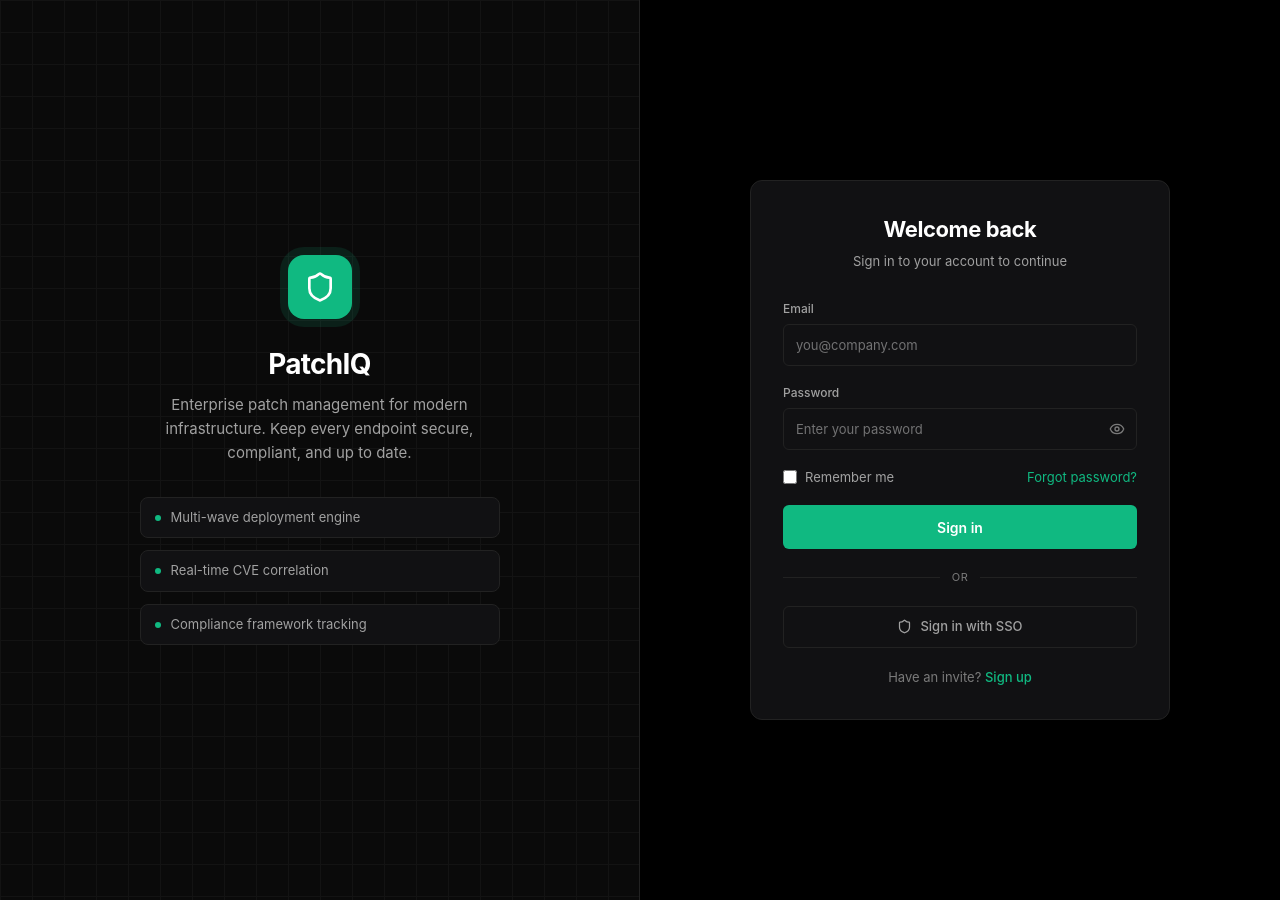
LoginPage › shows validation error for empty password
Type "user@example.com" into the field labelled "Email". click: (960, 344)
box: left=783, top=324, right=1137, bottom=366
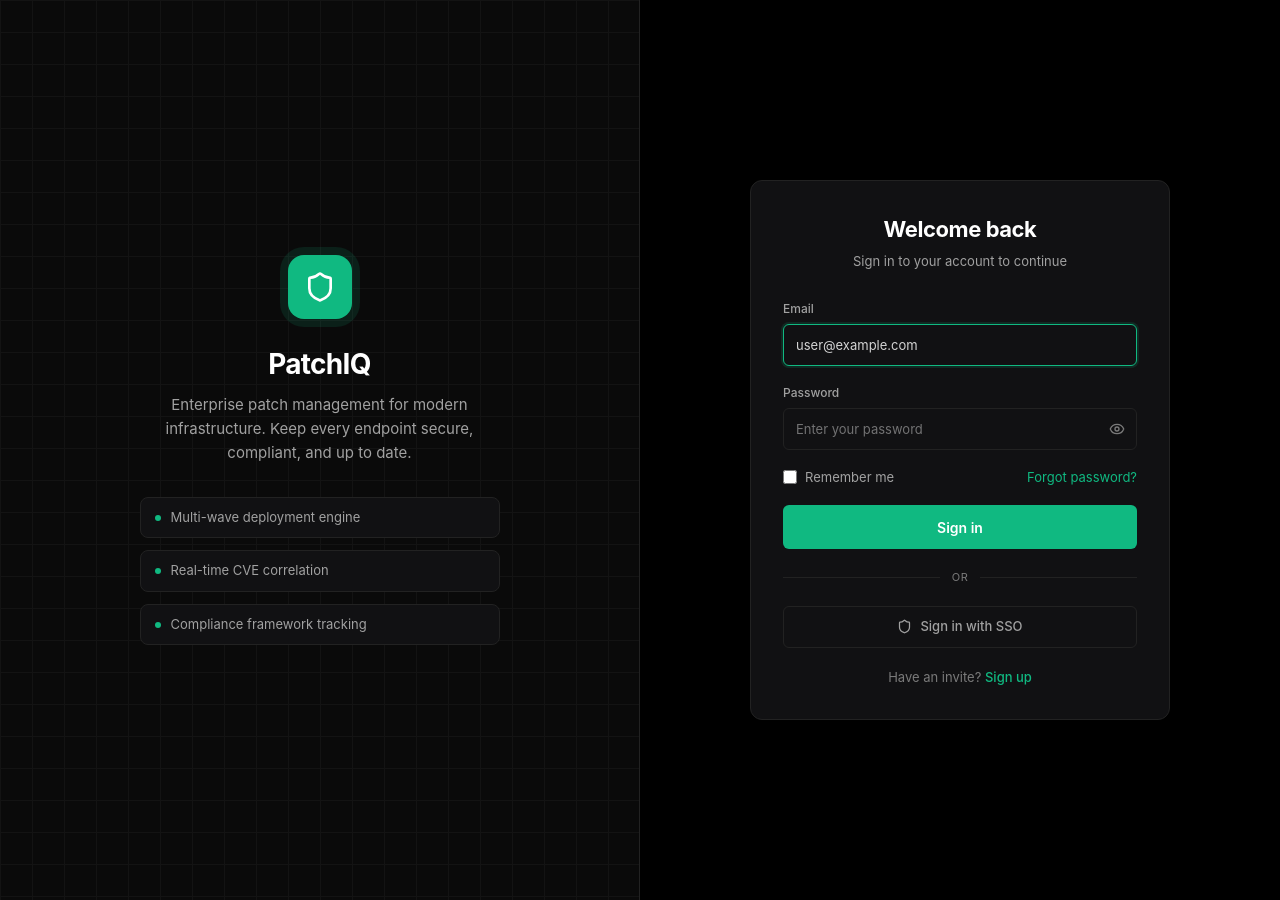
Click the button "Sign in". click: (960, 527)
box: left=783, top=505, right=1137, bottom=549
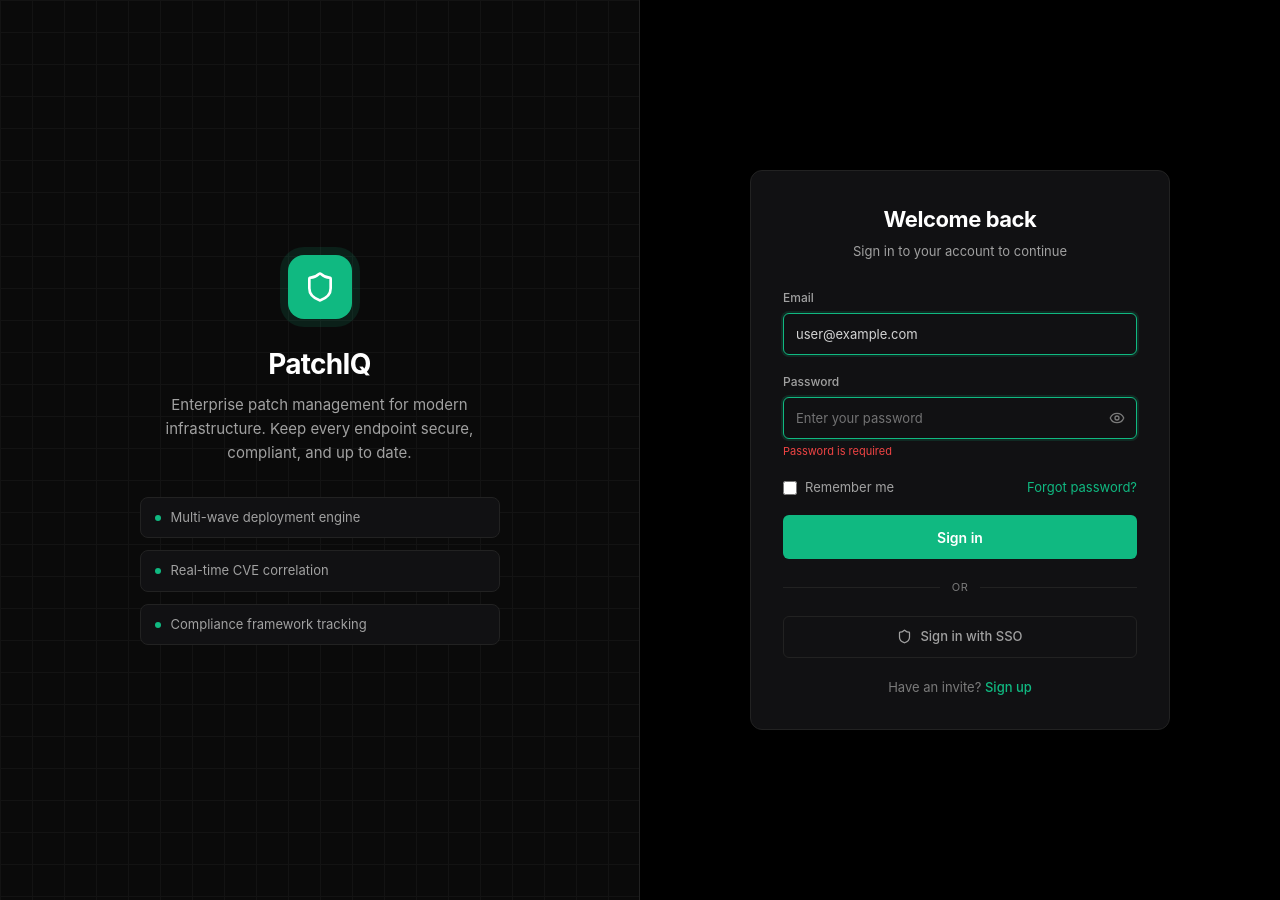
Now the text "Password is required" is shown, box left=783, top=444, right=892, bottom=458
